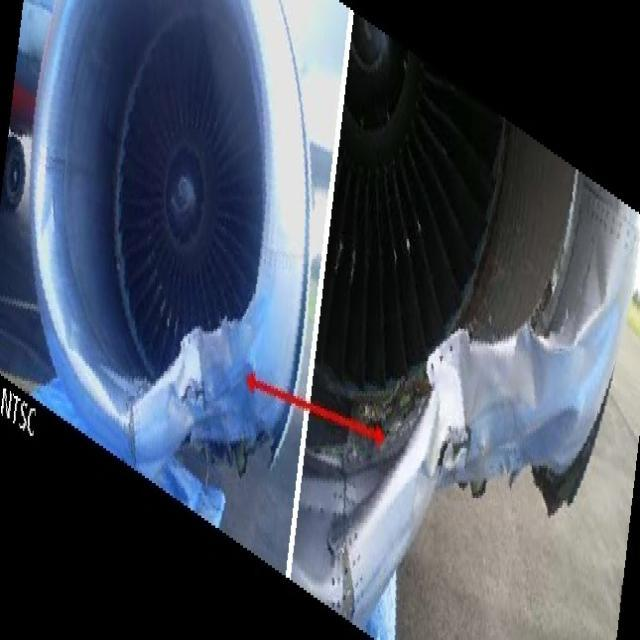dent: (573, 240, 613, 357), (438, 342, 481, 432), (518, 330, 549, 405)
